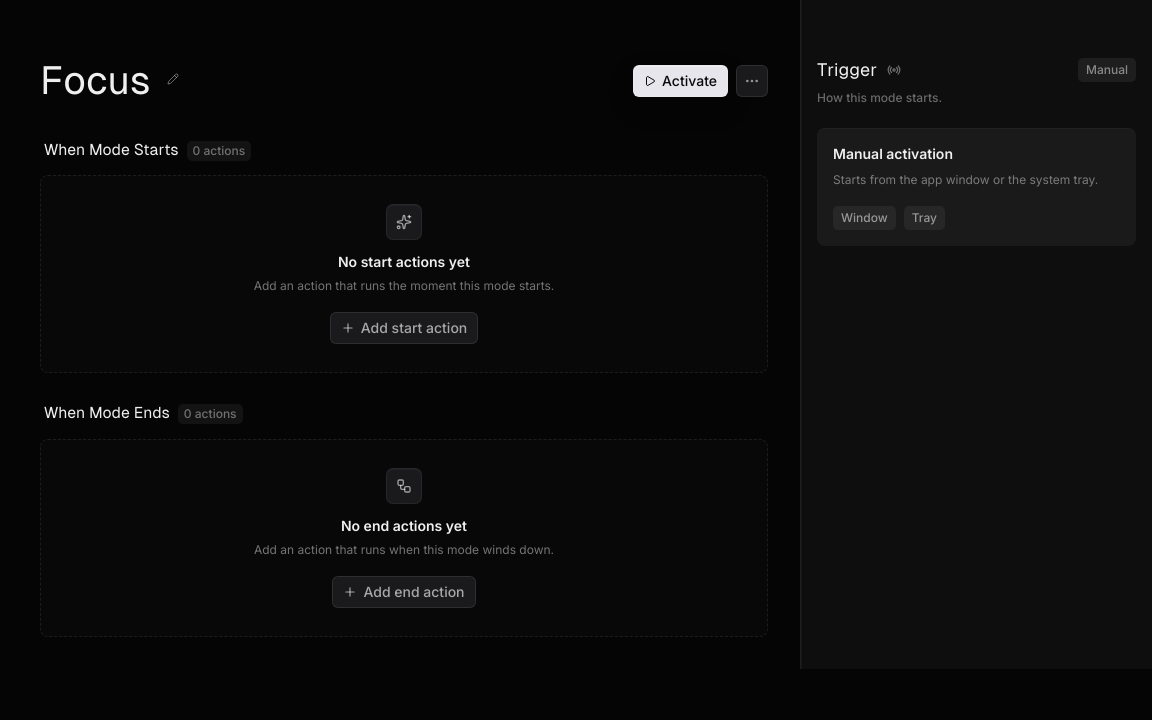
Test case: ModeDetailPage › selects an application from the native picker
The image size is (1152, 720).
Click the button with aria-label "add your first start action". click: (404, 328)
box: 330,312 -> 478,344
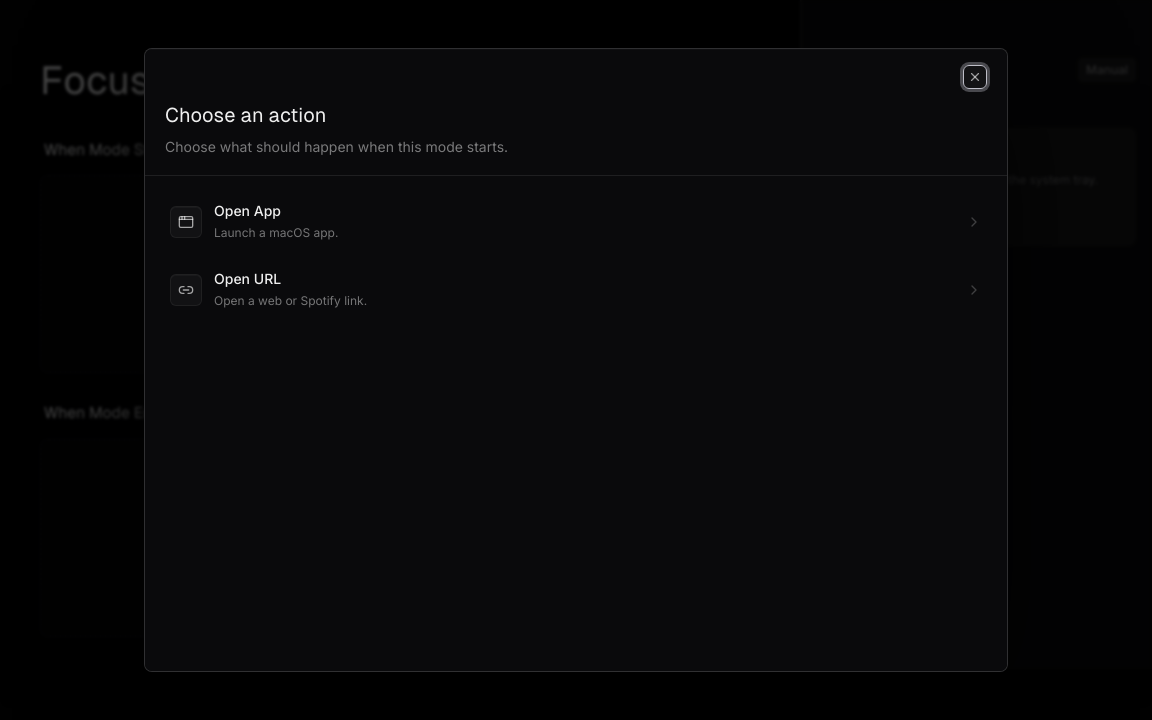
Click the button "Open App Launch a macOS app.". click: (186, 222)
box: 157,188 -> 995,256
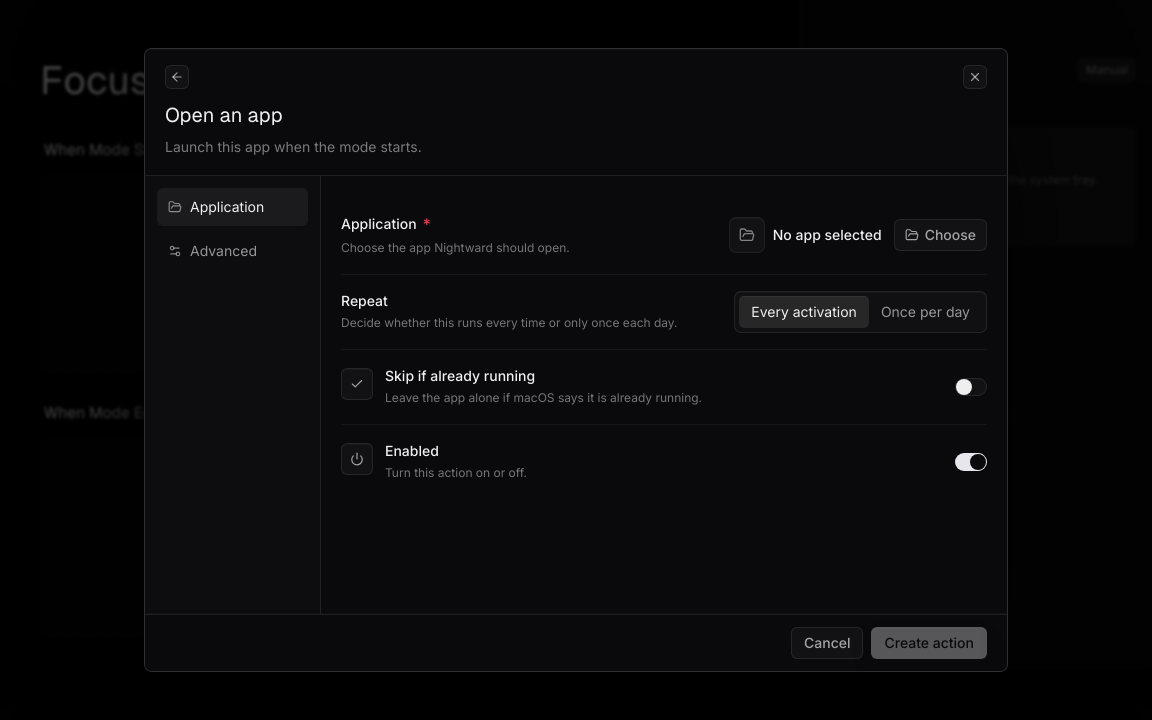
Click the button "Choose". click: (940, 235)
box: 894,219 -> 987,251
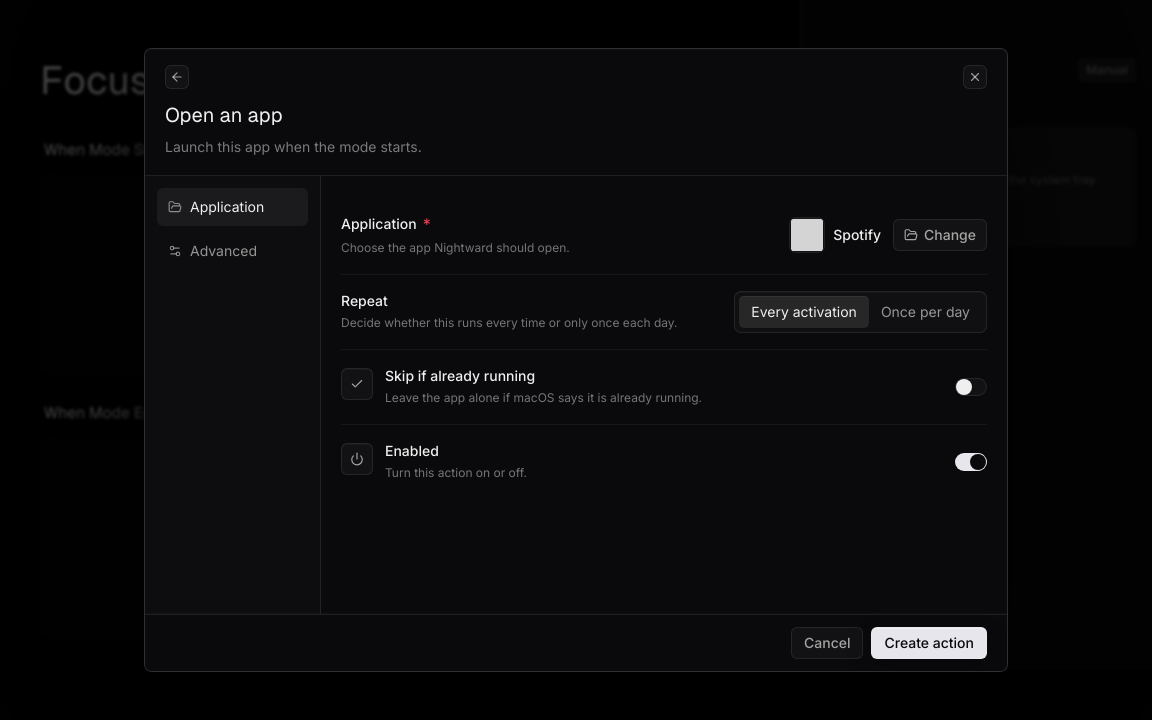
expect the text "Spotify" is shown: met, box 833,225 -> 881,245
expect the button "Change" is shown: met, box 893,219 -> 987,251
